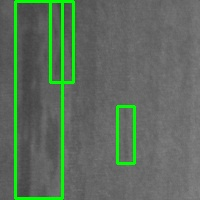inclusion: (15, 1, 62, 198), (50, 1, 73, 82), (117, 106, 134, 163)
